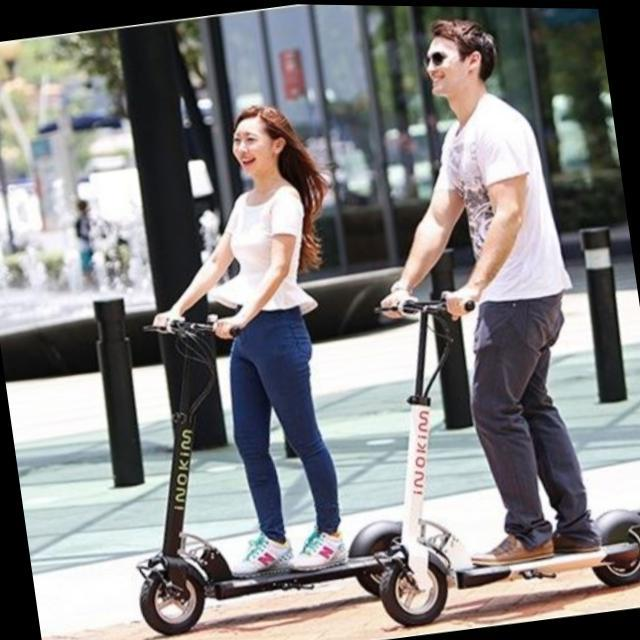Nonhelmet: (420, 19, 500, 107), (220, 96, 292, 185)
